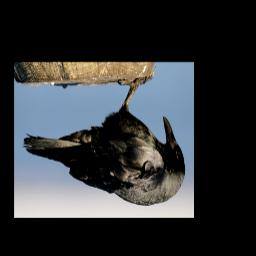Crow: (21, 66, 185, 207)
